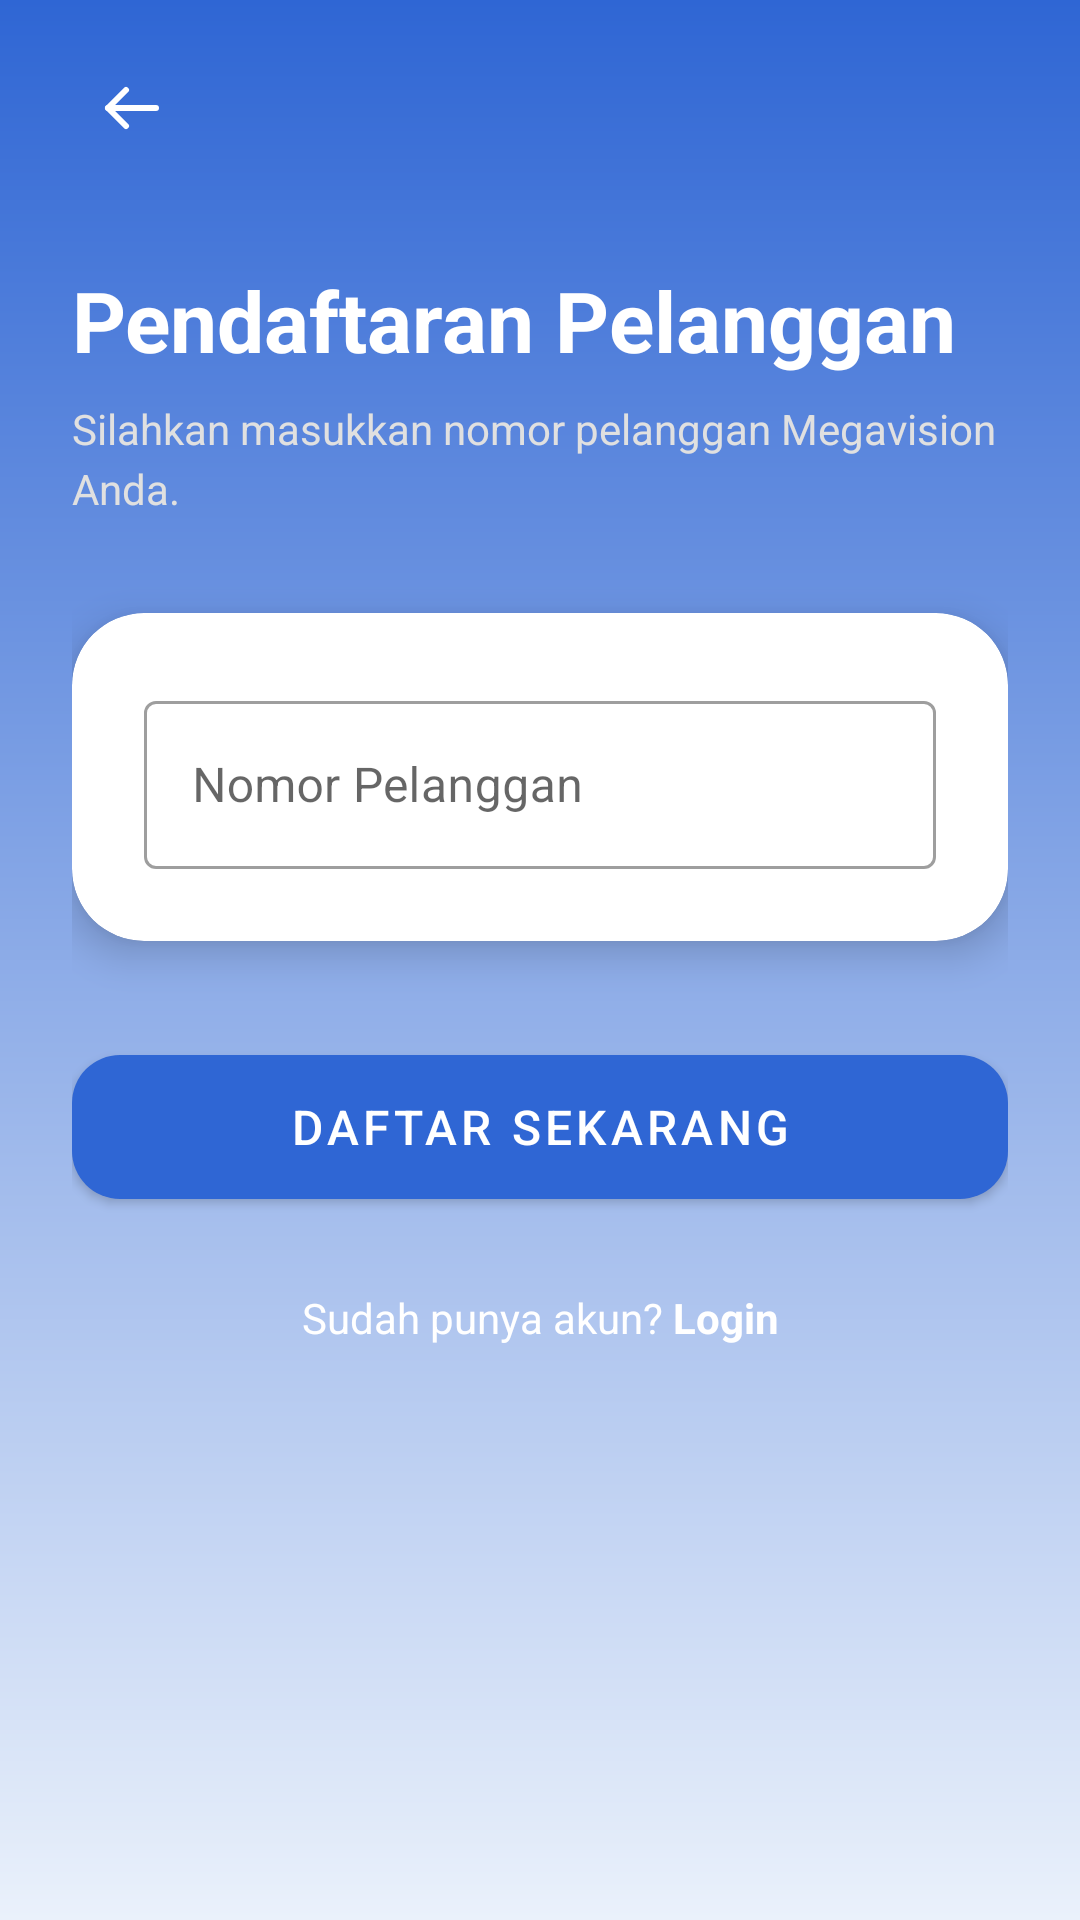

Where to tap for icons on this 1080×1920 app screen, as (x,y):
Kembali: (132,108)
